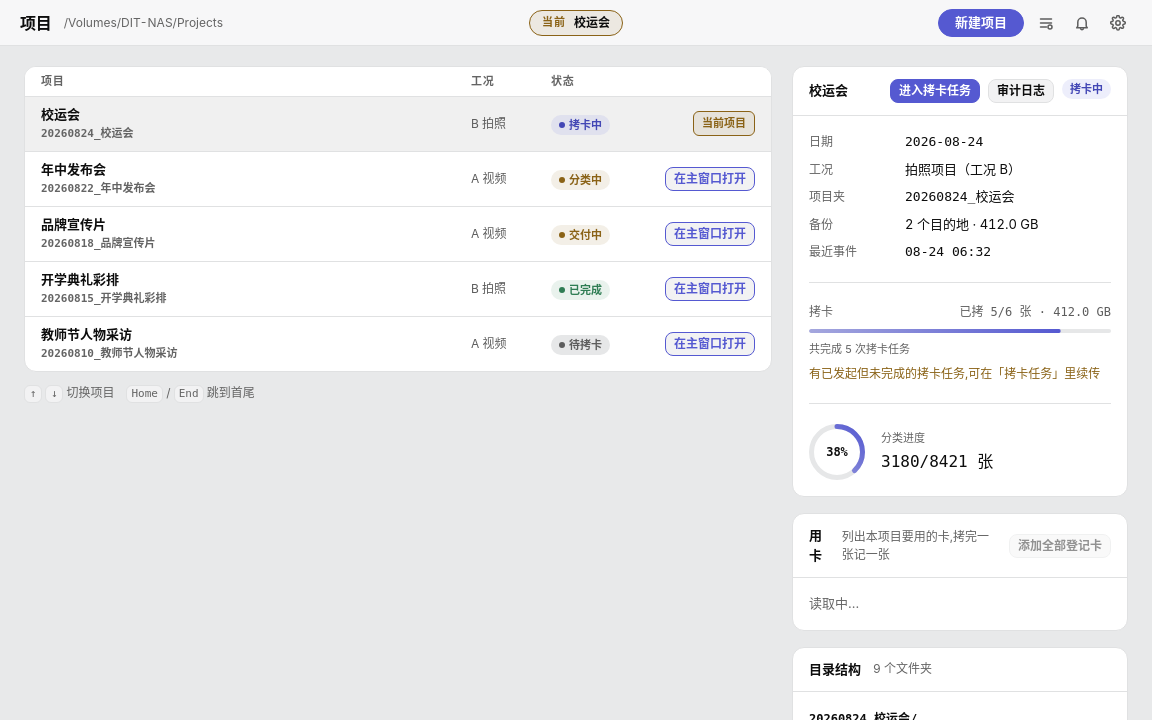
Test case: ★ 部分拷贝在日志里的呈现 › ★ 两行不能逐字相同,颜色也不能同为绿
Click the button with test id "audit-open" at (1021, 91), box [988,79,1054,103]
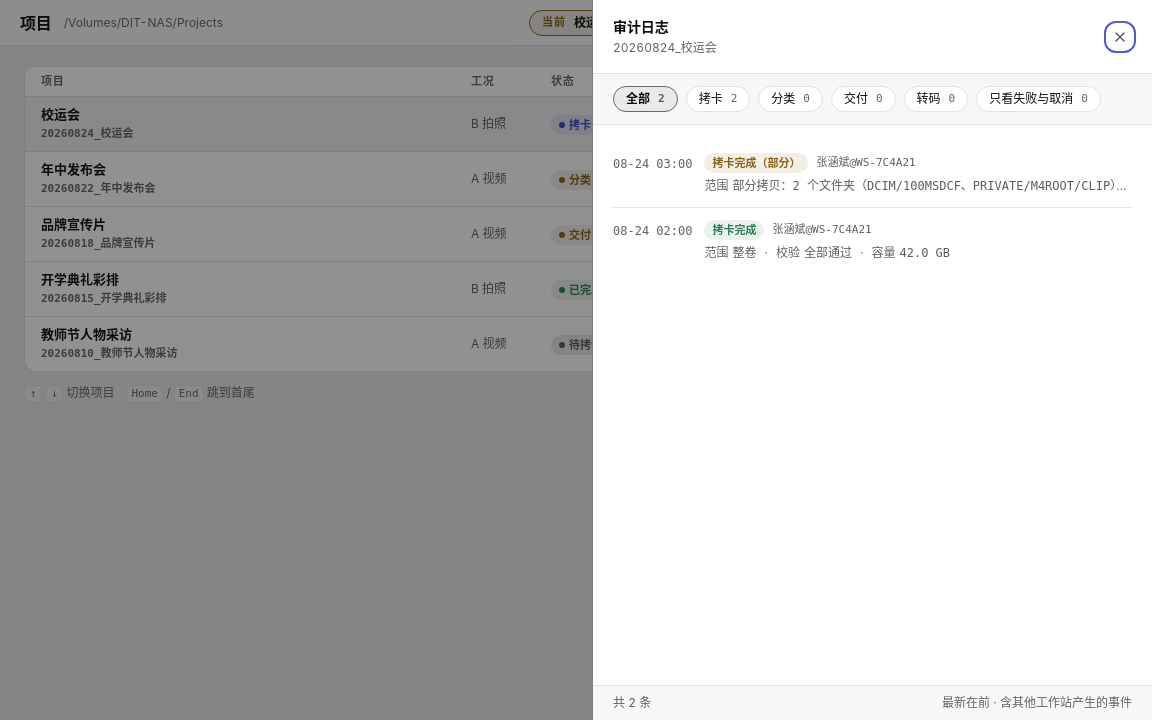
Check: the dialog with test id "audit-log-drawer" is shown, box [592,0,1151,719]
